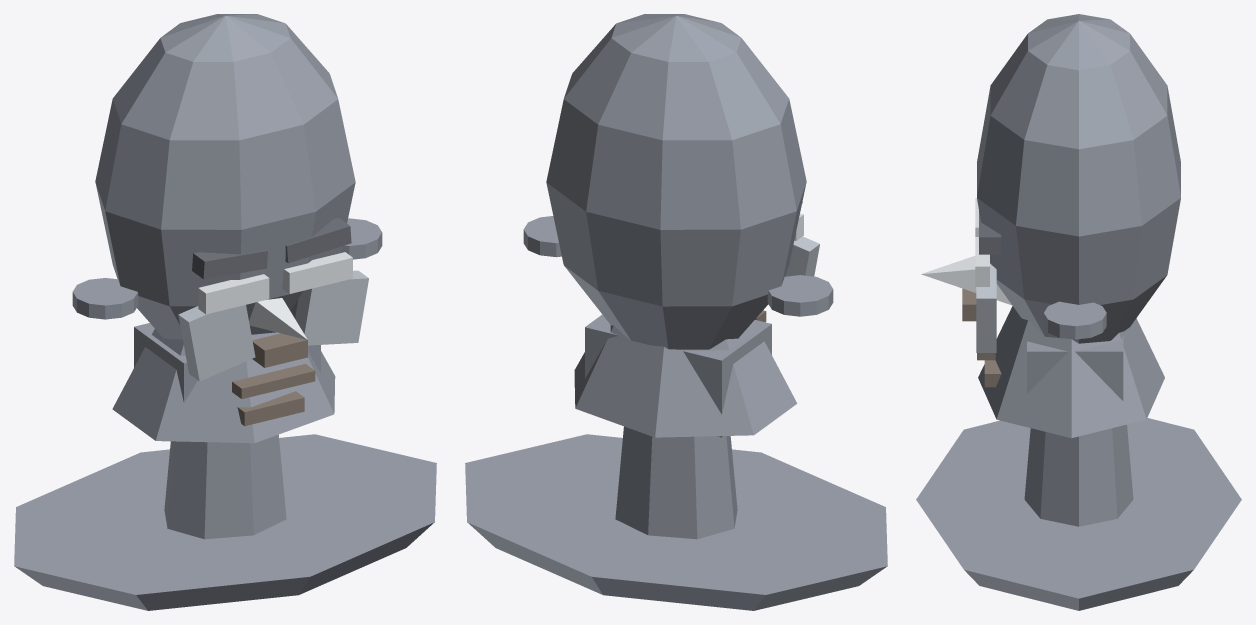
The model's file is study-planes-head.glb.
3 views of the same model, side by side, from view 1: azimuth 30°, elevation 25°; view 2: azimuth 150°, elevation 25°; view 3: azimuth 270°, elevation 25° (orthographic). The views are drawn at different scales.
Parts seen in each view (by area): view 1: part_cranium, part_shoulder_base, part_face_planes, part_neck_planes, part_cheek_L, part_cheek_R, part_ear_L, part_eye_L, part_eye_R, part_jaw_block, part_brow_L, part_upper_lip (+5 smaller); view 2: part_cranium, part_shoulder_base, part_face_planes, part_neck_planes, part_jaw_block, part_ear_L, part_ear_R, part_cheek_L; view 3: part_cranium, part_shoulder_base, part_face_planes, part_neck_planes, part_jaw_block, part_ear_R, part_cheek_R, part_nose_wedge, part_brow_R, part_eye_R, part_nose_bottom.
Part boxes in pixels (bbox=[...]): part_cranium: bbox=[95, 14, 355, 339]; part_shoulder_base: bbox=[14, 434, 436, 610]; part_face_planes: bbox=[112, 329, 335, 443]; part_neck_planes: bbox=[164, 434, 286, 539]; part_cheek_L: bbox=[178, 305, 255, 381]; part_cheek_R: bbox=[295, 270, 368, 345]; part_ear_L: bbox=[72, 278, 138, 319]; part_eye_L: bbox=[198, 274, 269, 314]; part_eye_R: bbox=[282, 252, 352, 293]; part_jaw_block: bbox=[134, 323, 320, 402]; part_brow_L: bbox=[192, 250, 267, 279]; part_upper_lip: bbox=[232, 364, 315, 398]; part_cranium: bbox=[546, 14, 806, 349]; part_shoulder_base: bbox=[465, 434, 887, 610]; part_face_planes: bbox=[574, 321, 797, 437]; part_neck_planes: bbox=[615, 426, 737, 539]; part_jaw_block: bbox=[585, 314, 771, 437]; part_ear_L: bbox=[767, 275, 833, 316]; part_ear_R: bbox=[523, 216, 561, 257]; part_cheek_L: bbox=[785, 236, 819, 276]; part_cranium: bbox=[977, 14, 1180, 343]; part_shoulder_base: bbox=[916, 418, 1241, 610]; part_face_planes: bbox=[978, 306, 1164, 438]; part_neck_planes: bbox=[1024, 424, 1133, 526]; part_jaw_block: bbox=[1027, 336, 1123, 400]; part_ear_R: bbox=[1043, 301, 1106, 339]; part_cheek_R: bbox=[976, 263, 996, 352]; part_nose_wedge: bbox=[921, 256, 1011, 305]; part_brow_R: bbox=[979, 212, 1001, 254]; part_eye_R: bbox=[975, 237, 989, 286]; part_nose_bottom: bbox=[962, 288, 976, 321].
Bounding box in the file's own units: 2.53 × 3.01 × 1.76.
